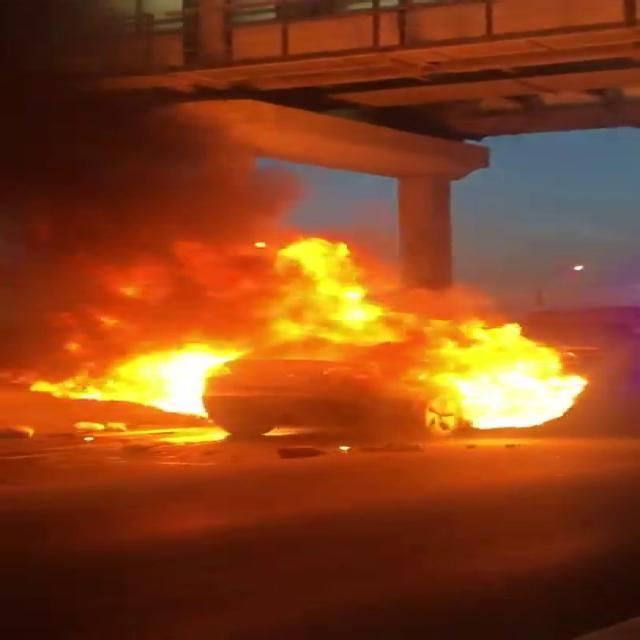Fire: (22, 230, 599, 444)
Smoke: (0, 0, 324, 228)
